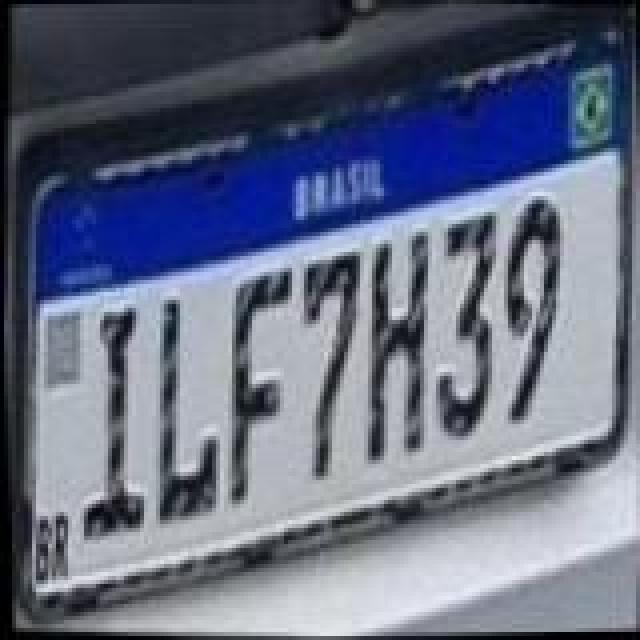3: (424, 204, 504, 444)
7: (288, 248, 368, 484)
9: (492, 190, 572, 426)
F: (220, 262, 304, 506)
H: (354, 226, 438, 470)
I: (68, 302, 152, 546)
L: (148, 292, 232, 524)
